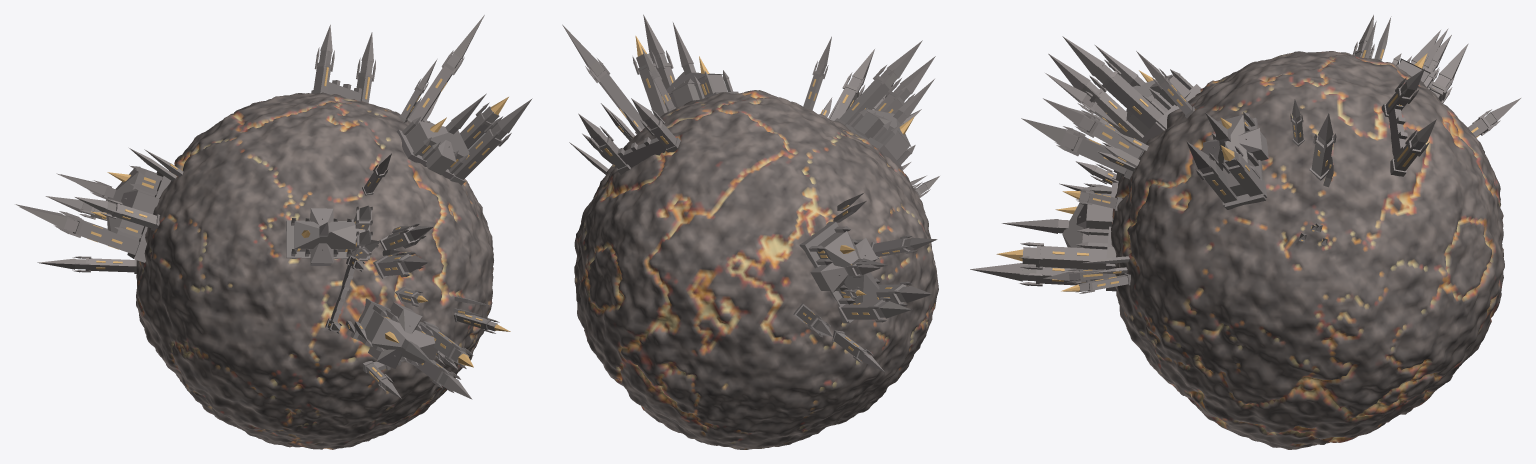
Rendered from planet_0.glb.
3 renders of one model, left to right at view 1: azimuth 30°, elevation 25°; view 2: azimuth 150°, elevation 25°; view 3: azimuth 270°, elevation 25°, orthographic. The views are drawn at different scales.
Visible parts, largest first — view 1: Planet_export, Structures_export_0; view 2: Planet_export, Structures_export_0; view 3: Planet_export, Structures_export_0.
Part boxes in pixels (left/top/right/bottom): Planet_export: left=136, top=92, right=493, bottom=449; Structures_export_0: left=15, top=15, right=532, bottom=399; Planet_export: left=574, top=90, right=938, bottom=449; Structures_export_0: left=562, top=14, right=939, bottom=371; Planet_export: left=1111, top=51, right=1504, bottom=449; Structures_export_0: left=970, top=15, right=1520, bottom=293.
Size of the model in its own units: 5.47 by 4.67 by 5.64.
